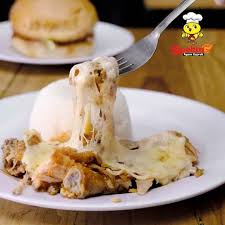ayam_geprek: (35, 107, 188, 214)
